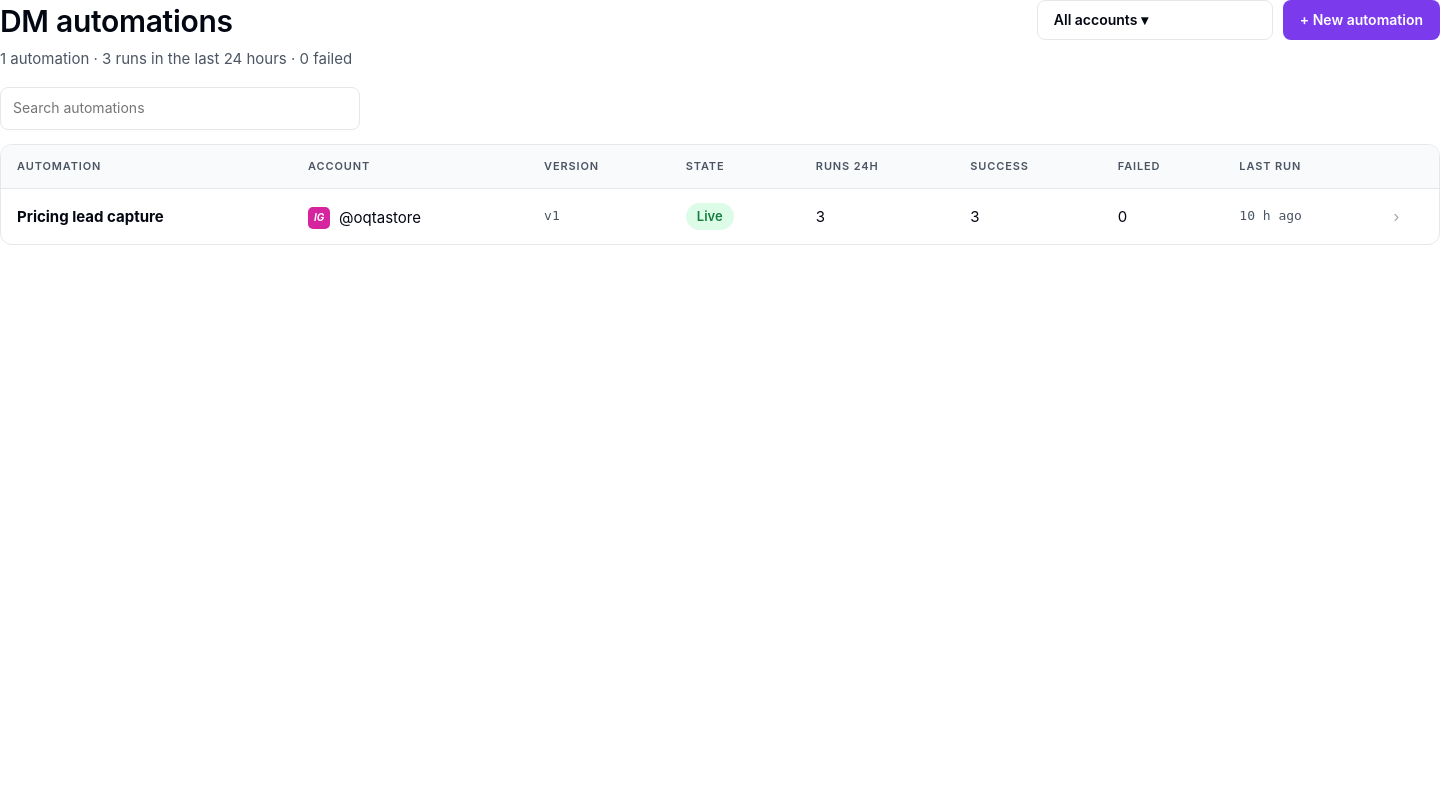
Test case: overview page › opens the new automation modal with the selected account already chosen
Expected: the text "Pricing lead capture" is shown, [17,207,164,226]
Select "@oqtalab · Instagram ▾" in the dropdown named "Filter by account": (1155, 20) [1037,0,1273,40]
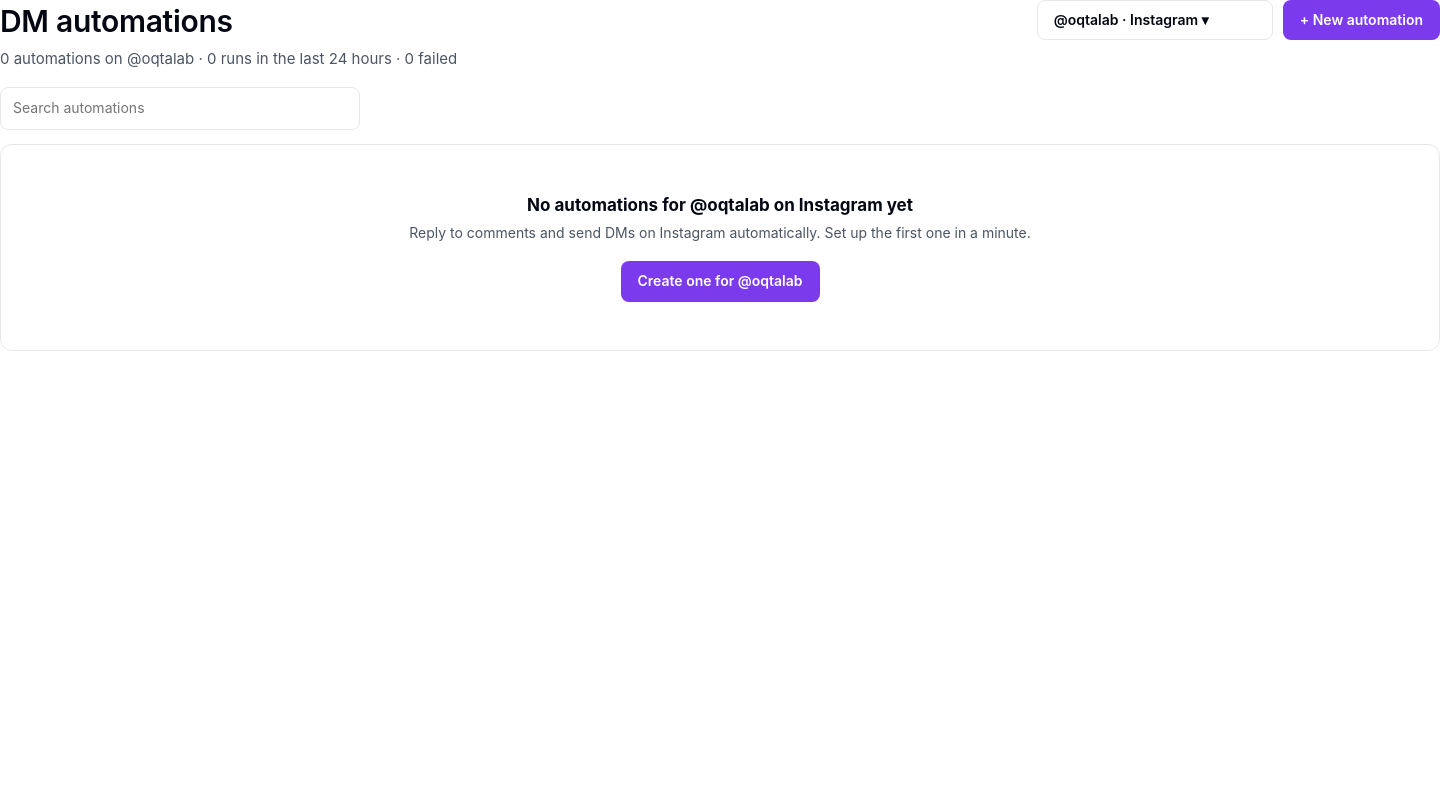
Click the button "Create one for @oqtalab": (720, 282) [620,262,820,302]
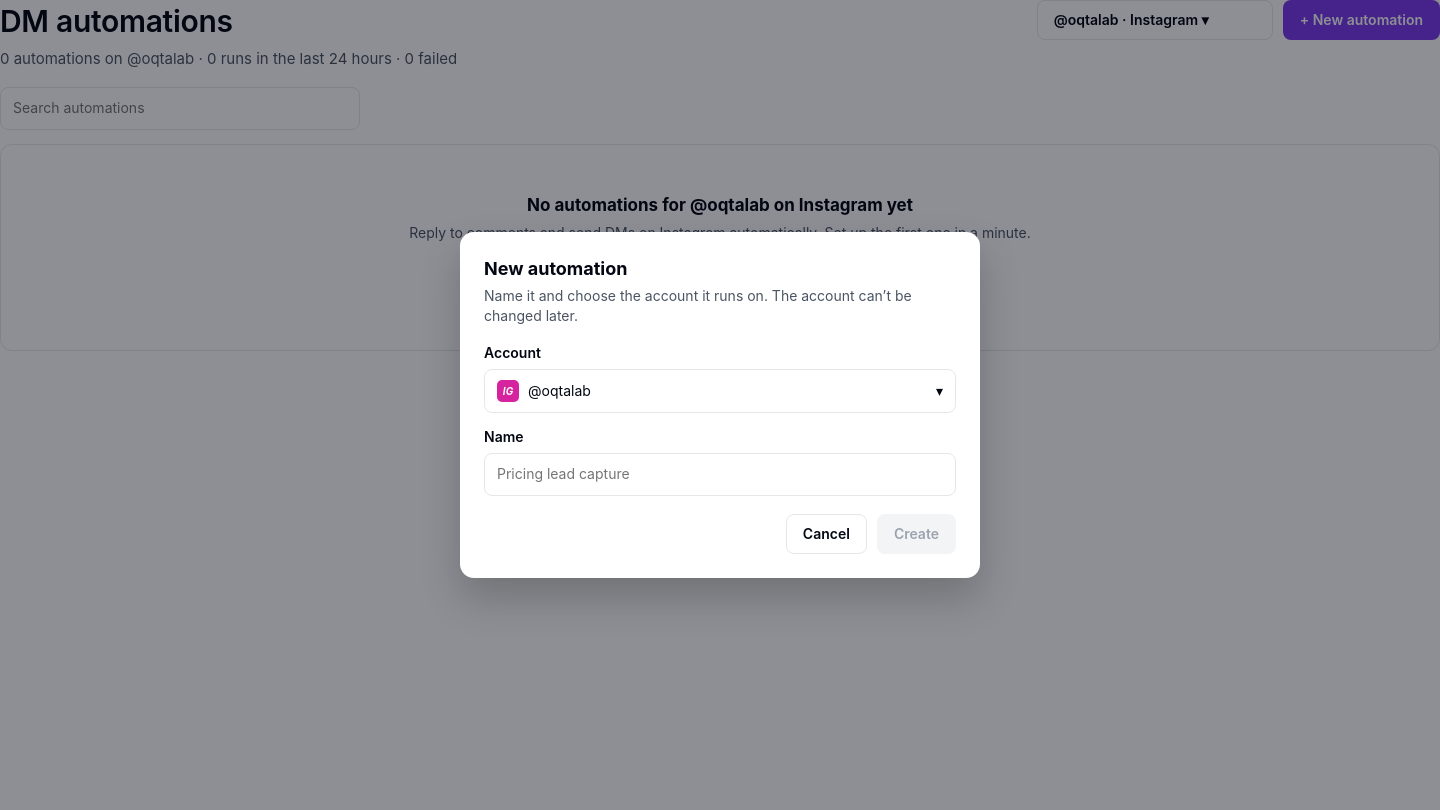
Now the text "@oqtalab" is shown, box [528,382,591,399]
